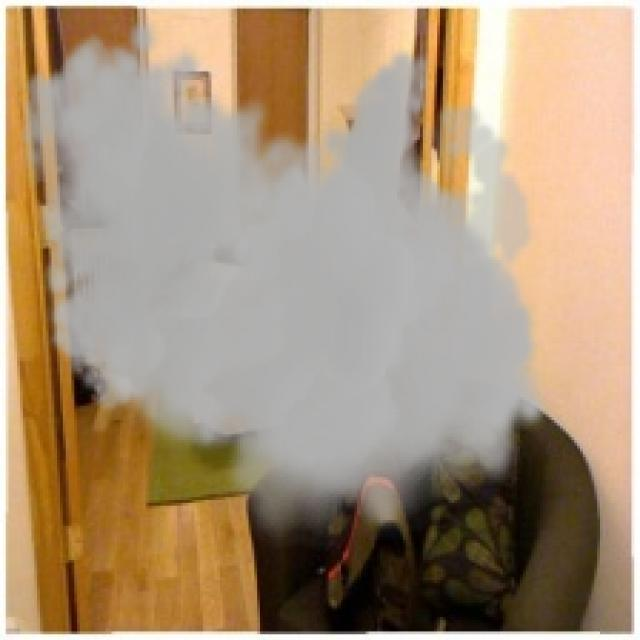Smoke: (17, 14, 552, 552)
